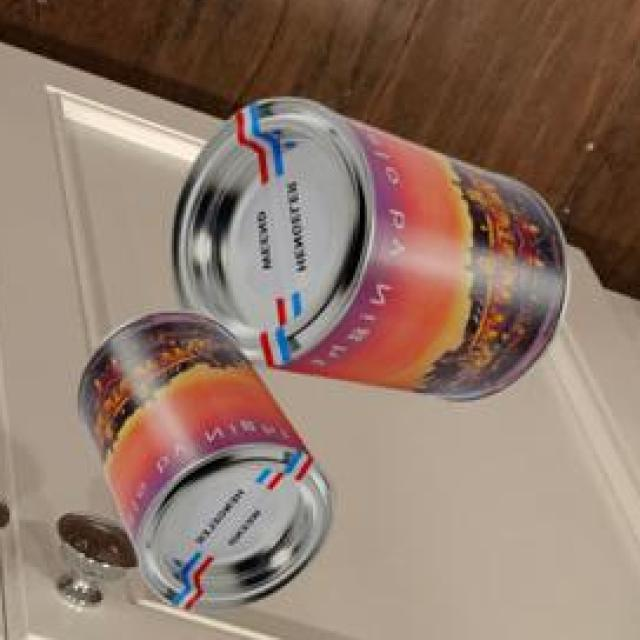logam: (166, 102, 564, 404), (74, 314, 331, 615)
